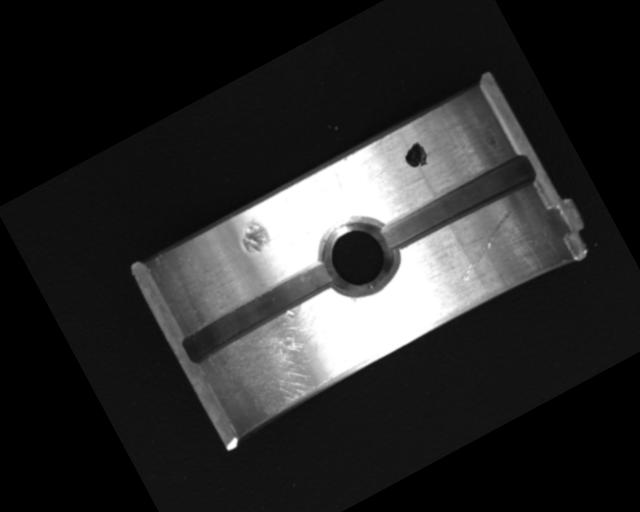blot: (399, 139, 432, 173)
bruise: (233, 213, 275, 258)
gap: (177, 257, 343, 368), (379, 149, 538, 254)
hole: (308, 204, 409, 309)
nick: (442, 208, 531, 284)
scratch: (203, 283, 378, 432)
